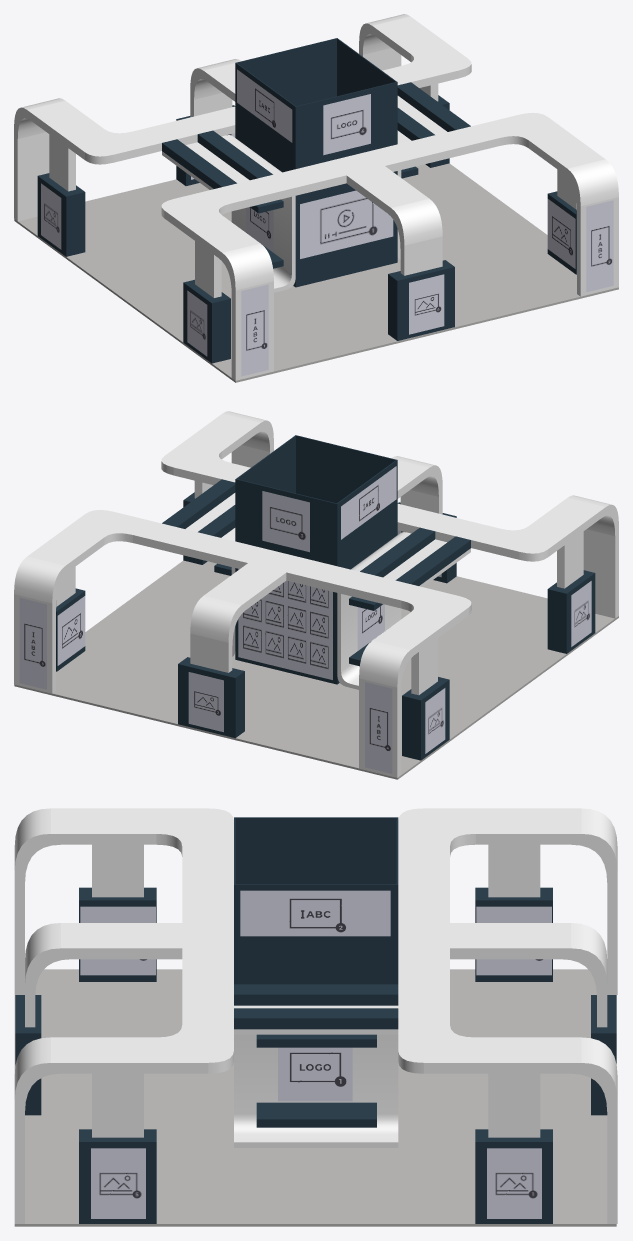
The model's file is stant67.gltf.
3 renders of one model, top to bottom at view 1: azimuth 30°, elevation 25°; view 2: azimuth 150°, elevation 25°; view 3: azimuth 270°, elevation 25°, orthographic. The views are drawn at different scales.
Parts seen in each view (by area): view 1: modrenk1, modzemin, modrenk2, modvideo1, modlogo4, moddikyazi2, moddikyazi1, modyazi1, moddikgorsel4, modgorsel2, moddikgorsel6, moddikgorsel3 (+1 smaller); view 2: modrenk1, modzemin, modrenk2, modgenisgorsel, modlogo3, moddikyazi4, moddikyazi3, modyazi1, moddikgorsel2, modgorsel3, moddikgorsel3, moddikgorsel6 (+1 smaller); view 3: modrenk1, modzemin, modrenk2, modyazi2, modlogo1, moddikgorsel1, moddikgorsel5, modgorsel5, modgorsel6.
Boxes of the visible parts, x1,y1,x2,y2 form: modrenk1: [14, 14, 618, 380]; modzemin: [14, 163, 618, 382]; modrenk2: [37, 38, 576, 363]; modvideo1: [300, 190, 393, 258]; modlogo4: [323, 94, 370, 155]; moddikyazi2: [586, 200, 613, 292]; moddikyazi1: [241, 284, 268, 376]; modyazi1: [237, 69, 292, 142]; moddikgorsel4: [409, 274, 444, 334]; modgorsel2: [547, 199, 575, 268]; moddikgorsel6: [41, 183, 61, 249]; moddikgorsel3: [187, 290, 207, 356]; modrenk1: [14, 411, 618, 777]; modzemin: [14, 560, 618, 779]; modrenk2: [56, 435, 595, 760]; modgenisgorsel: [238, 569, 332, 679]; modlogo3: [262, 491, 309, 552]; moddikyazi4: [365, 682, 392, 773]; moddikyazi3: [19, 598, 46, 689]; modyazi1: [341, 466, 396, 539]; moddikgorsel2: [188, 672, 223, 732]; modgorsel3: [57, 596, 85, 665]; moddikgorsel3: [571, 581, 591, 646]; moddikgorsel6: [425, 688, 445, 753]; modrenk1: [14, 808, 617, 1223]; modzemin: [14, 969, 616, 1226]; modrenk2: [15, 817, 616, 1223]; modyazi2: [240, 890, 390, 936]; modlogo1: [278, 1047, 352, 1101]; moddikgorsel1: [487, 1148, 541, 1218]; moddikgorsel5: [91, 1148, 145, 1218]; modgorsel5: [476, 906, 551, 975]; modgorsel6: [80, 906, 155, 975].
Size of what is drawn, in the model's own units: 1 by 0.455 by 1.
27 materials, 24 textured.
